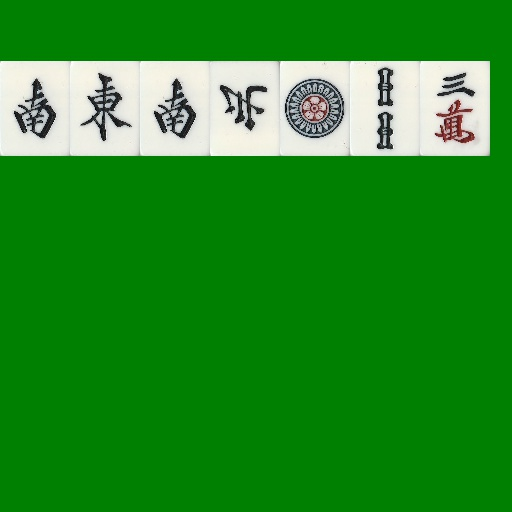1p: (280, 61, 350, 156)
2s: (350, 61, 420, 156)
3m: (420, 61, 490, 156)
east: (70, 61, 140, 156)
north: (210, 61, 280, 156)
south: (0, 61, 70, 156), (140, 61, 210, 156)
